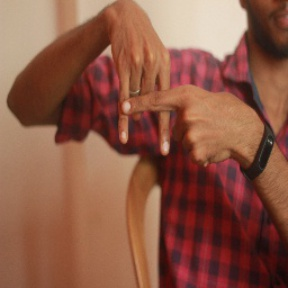H: (92, 42, 198, 164)
